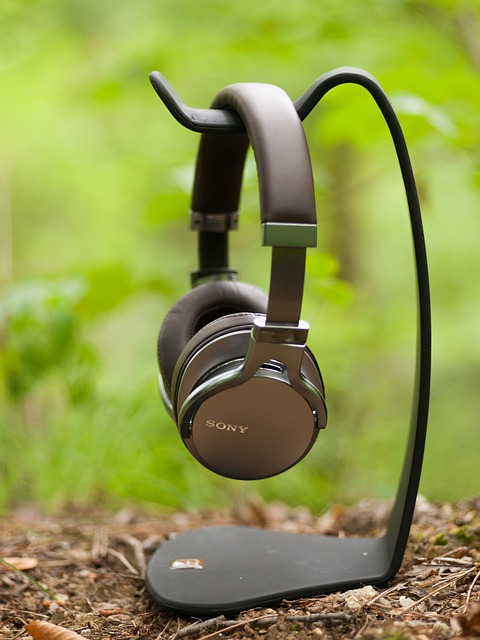headphones: (156, 84, 329, 481)
